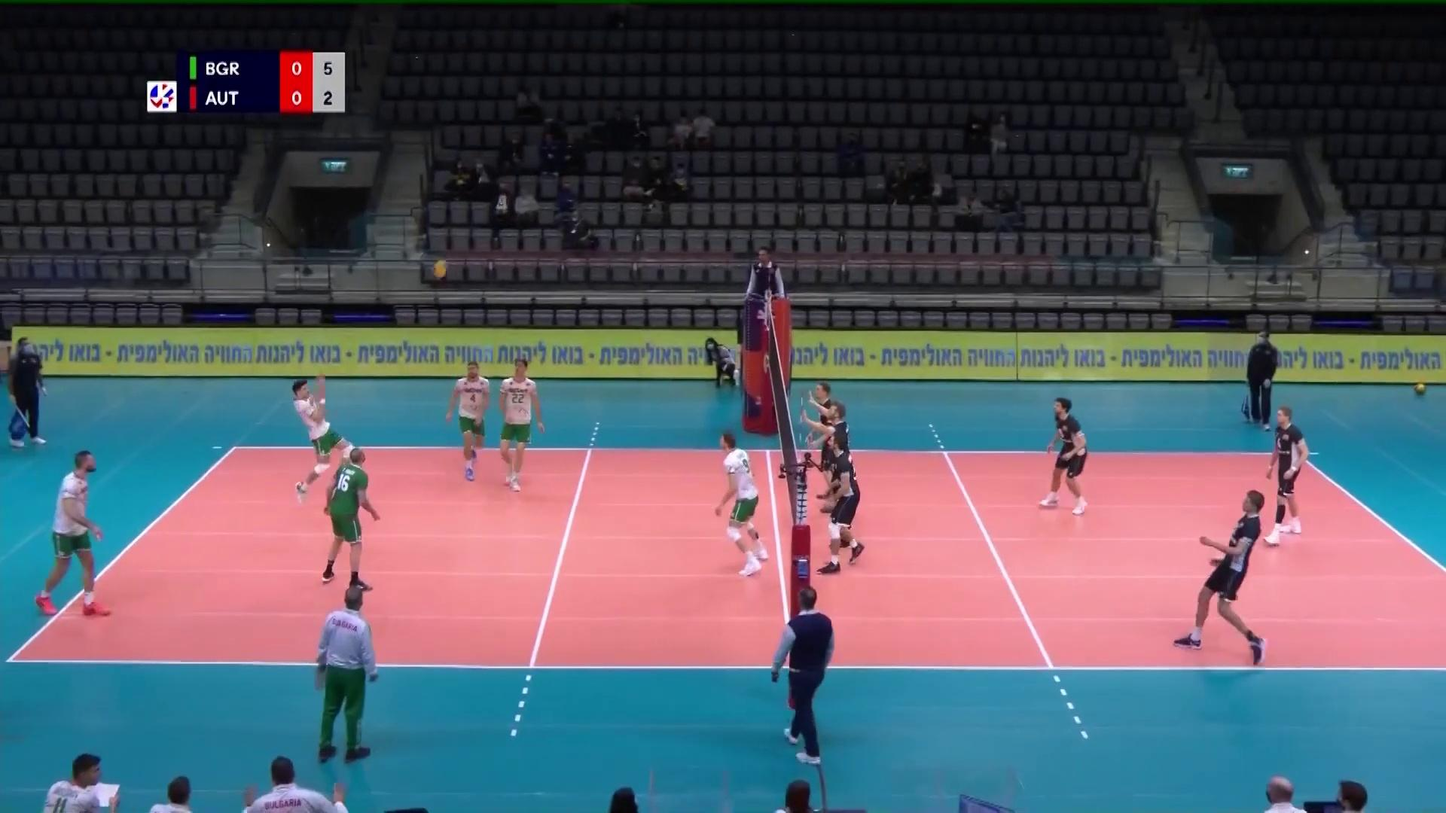ball: (434, 260, 448, 277)
